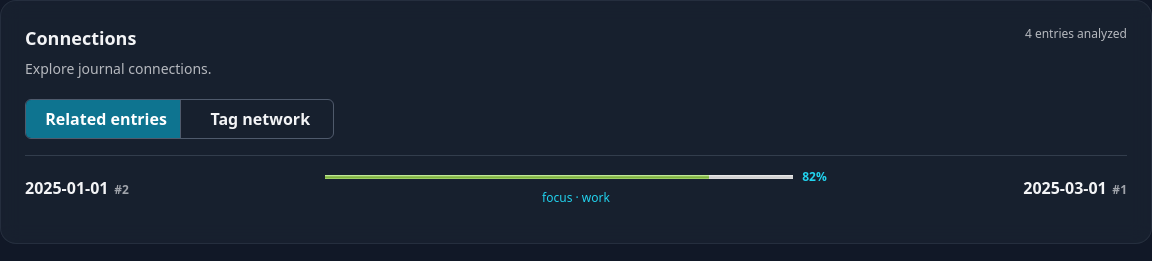
StatsCorrelationGraph › switches between entry and tag connections and opens an entry date
Expected: the text "4 entries analyzed" is shown, [1025,25,1127,43]
Expected: the element named "Connection strength: 82%" holds "82", [325,172,793,182]
Step 1. Click the button named "Open entry 2 from 2025-01-01" → point(67, 188), box [25,176,312,200]
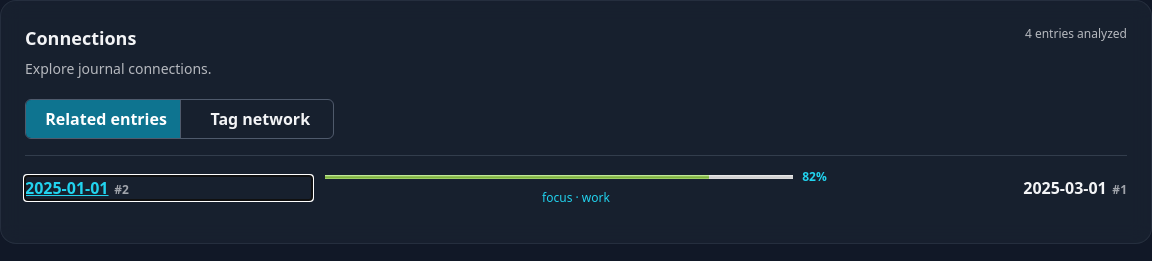
Step 2. Click the tab "Tag network" → point(257, 119), box [180,100,333,138]
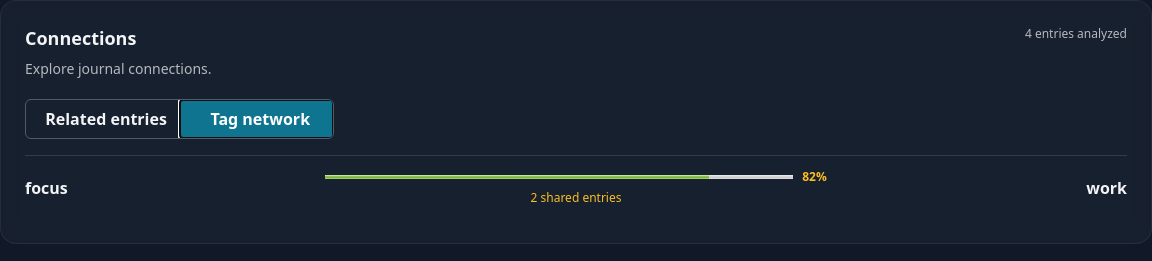
Expected: the text "focus" is shown, [25,177,68,199]
Now the text "2 shared entries" is shown, box [530,189,622,206]
